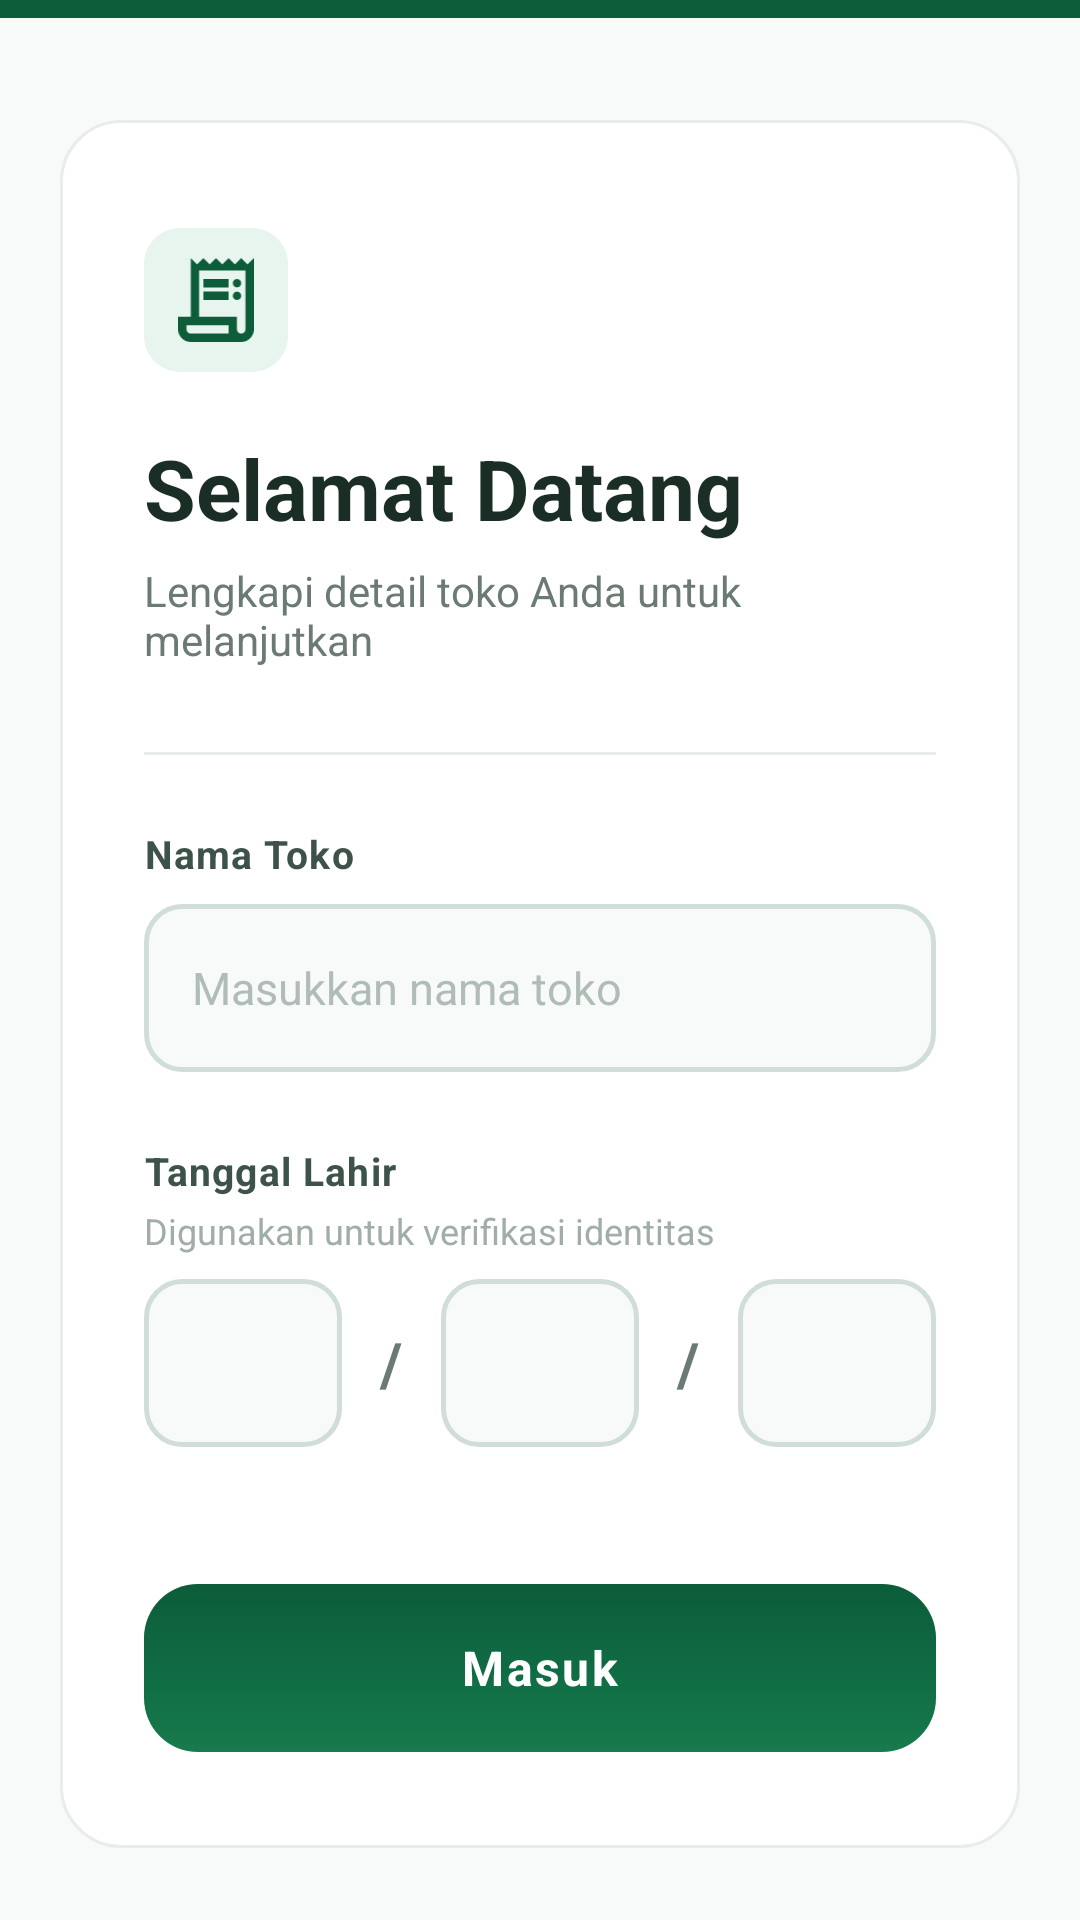

Where to tap for icons on this 1080w x 1920h app screen, as [x,y]:
daftartransaksi: [216,300]
